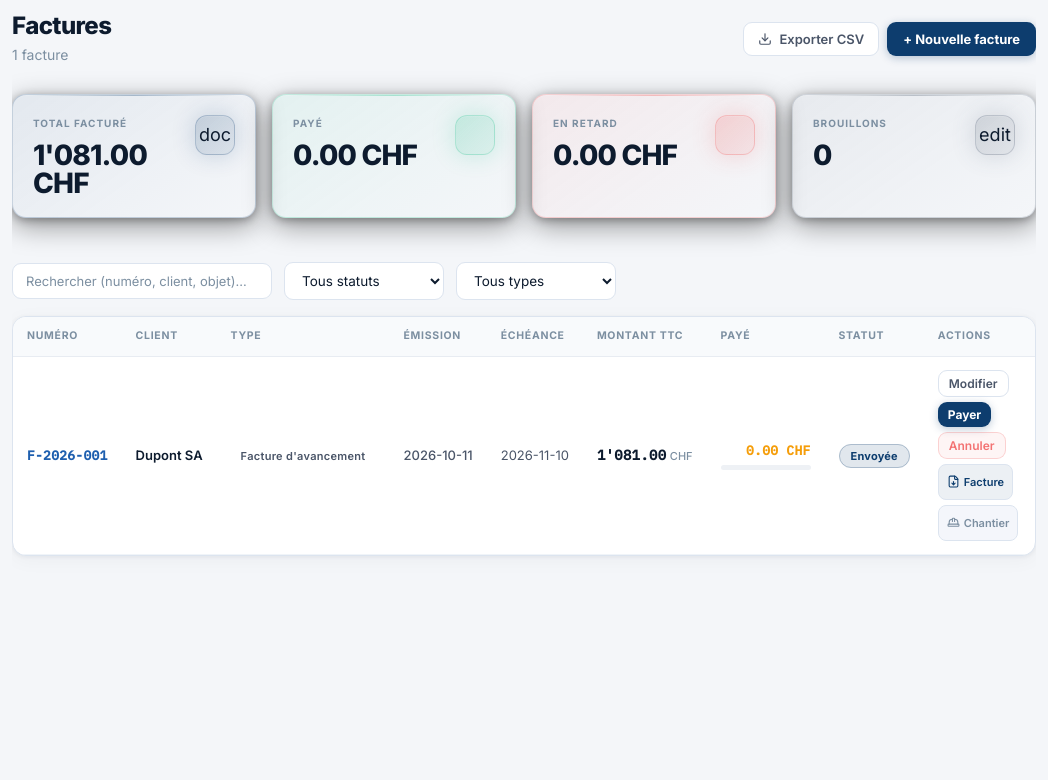
Scenario: Factures — formulaire : ouverture › modifier une facture existante ouvre le formulaire en mode édition
Click the button "Modifier" at (973, 384), box [938,370,1009,397]
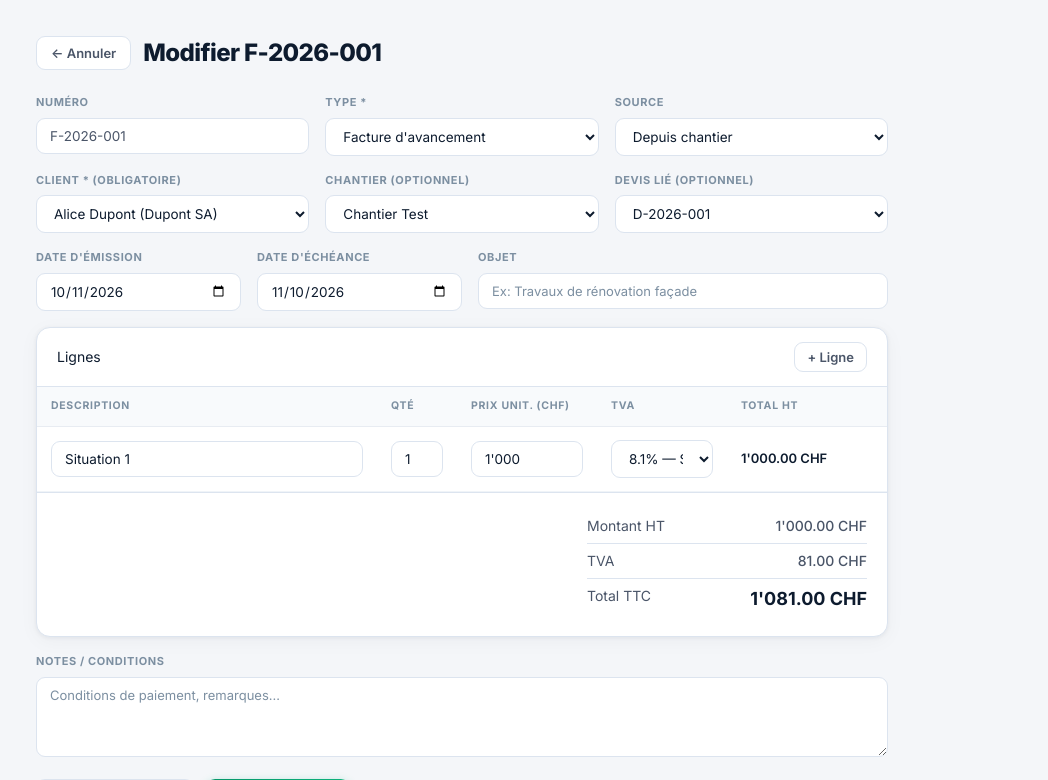
Result: the text "Modifier F-2026-001" is shown at [143,39,381,67]
